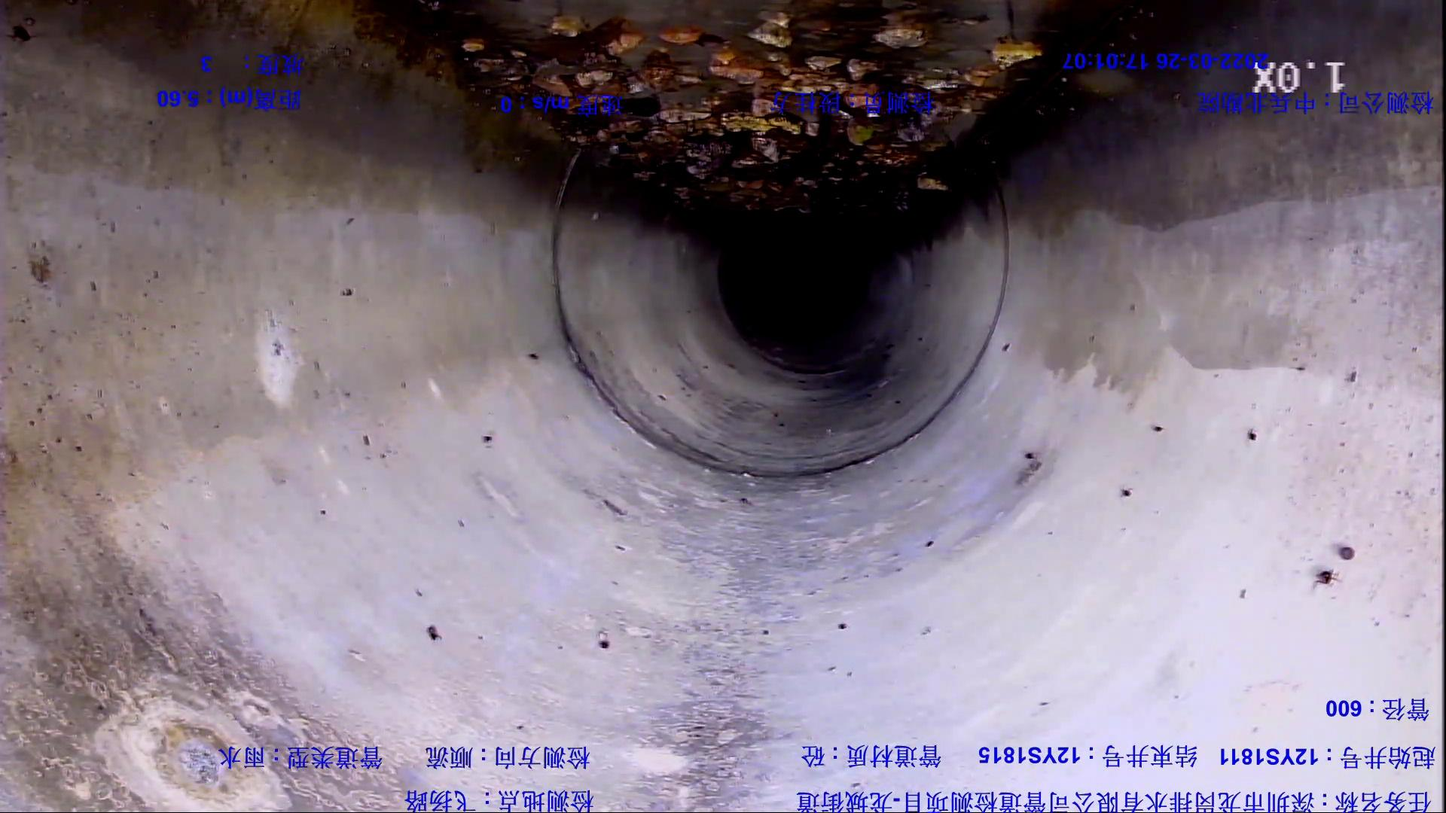CJ: (368, 1, 1124, 218)
